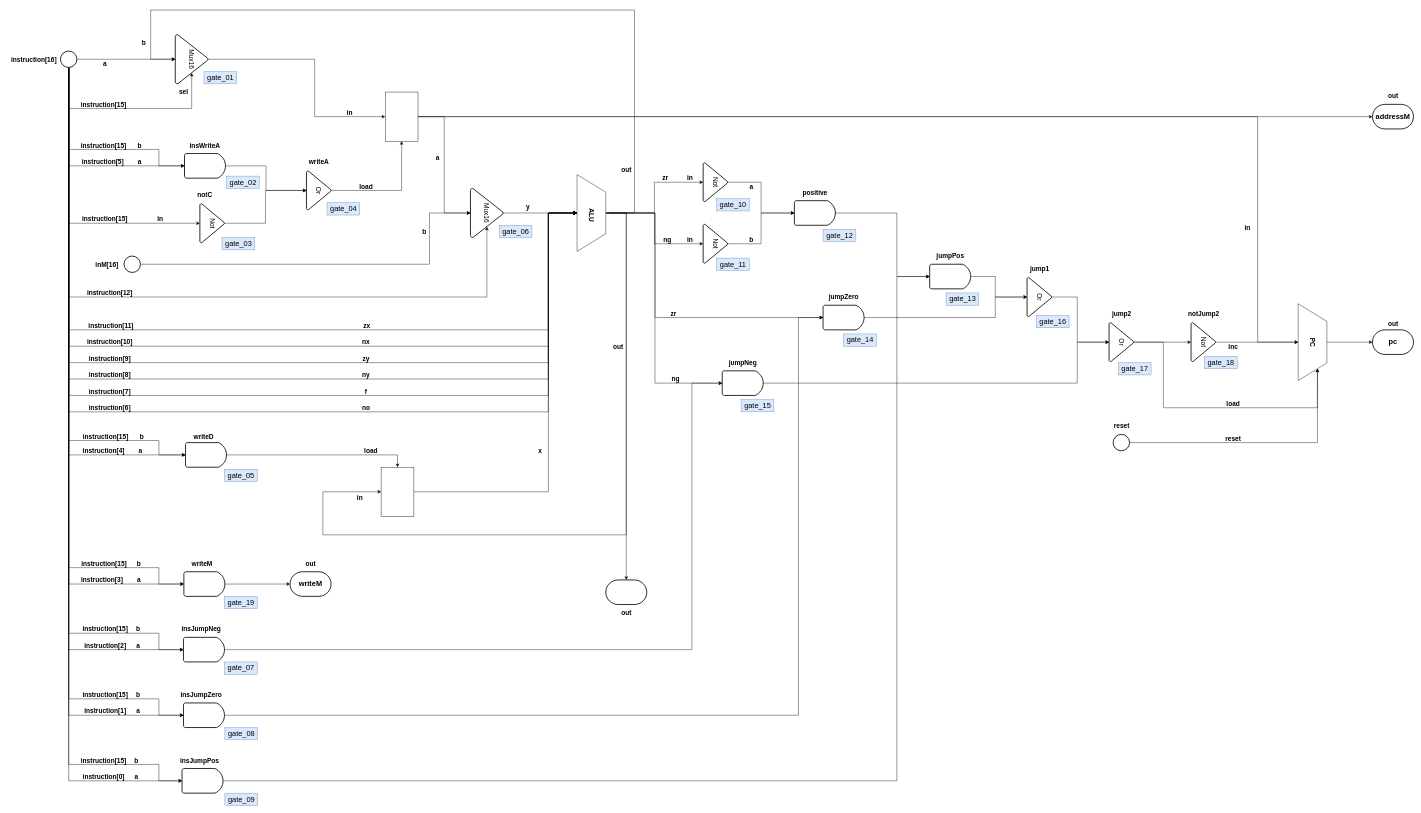
The diagram is 1421 pixels wide and 813 high, and some of its shapes have lost their labels. The centre of each missing label's shape, as x and y in pixels:
"A Register" goes at pixel 401 116.
"D Register" goes at pixel 397 491.
"outM" goes at pixel 626 592.
